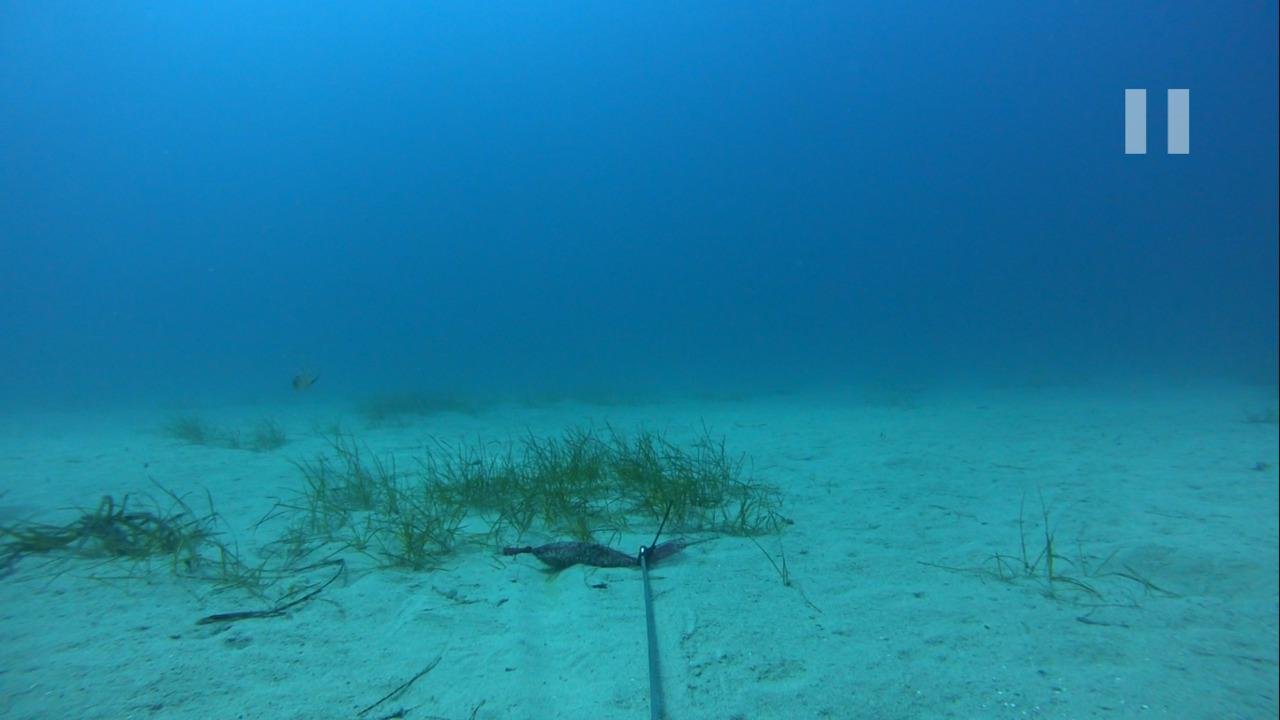dactylopterus: (277, 358, 328, 392)
